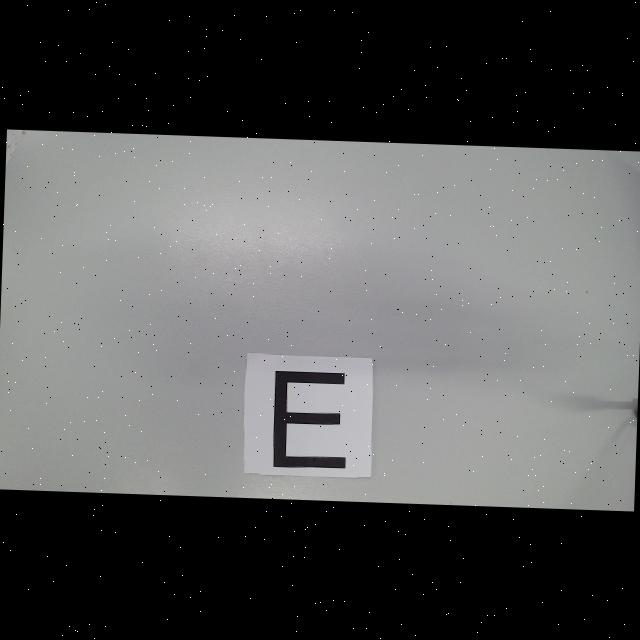FAKE: (272, 369, 349, 470)
